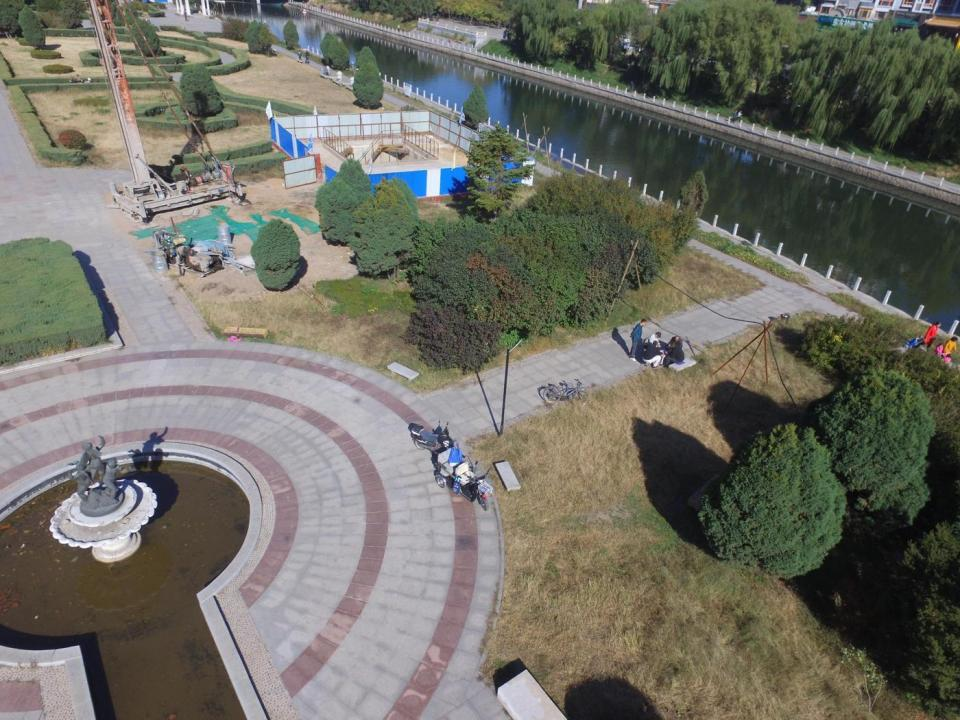car: (628, 316, 648, 363), (627, 43, 646, 54), (616, 40, 628, 49)
